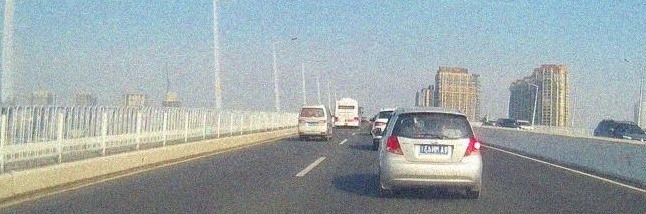L_light: (385, 136, 403, 155), (299, 119, 304, 123)
R_light: (463, 138, 481, 156), (320, 119, 326, 123)
T_light: (424, 112, 440, 115), (309, 108, 316, 110)
day-no: (299, 106, 328, 141)
day-right: (380, 108, 481, 198)
